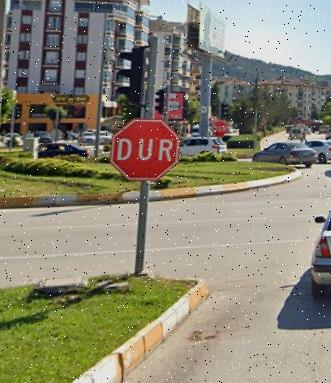stop: (113, 119, 178, 178), (211, 121, 229, 136)
